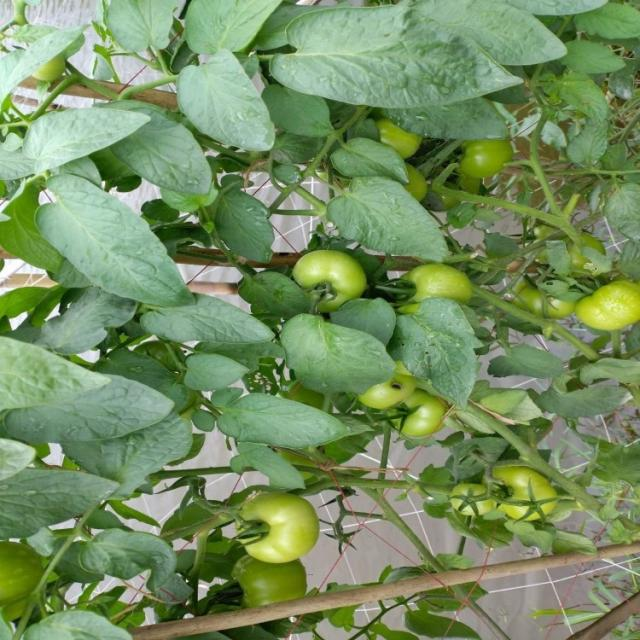tomato: (228, 473, 334, 566), (283, 229, 372, 314), (397, 225, 469, 316), (1, 522, 62, 619), (571, 271, 640, 351), (496, 461, 564, 539), (390, 379, 455, 448), (505, 261, 583, 316), (435, 123, 508, 178), (441, 463, 504, 525), (372, 111, 427, 170), (360, 365, 426, 413), (402, 159, 445, 205)
